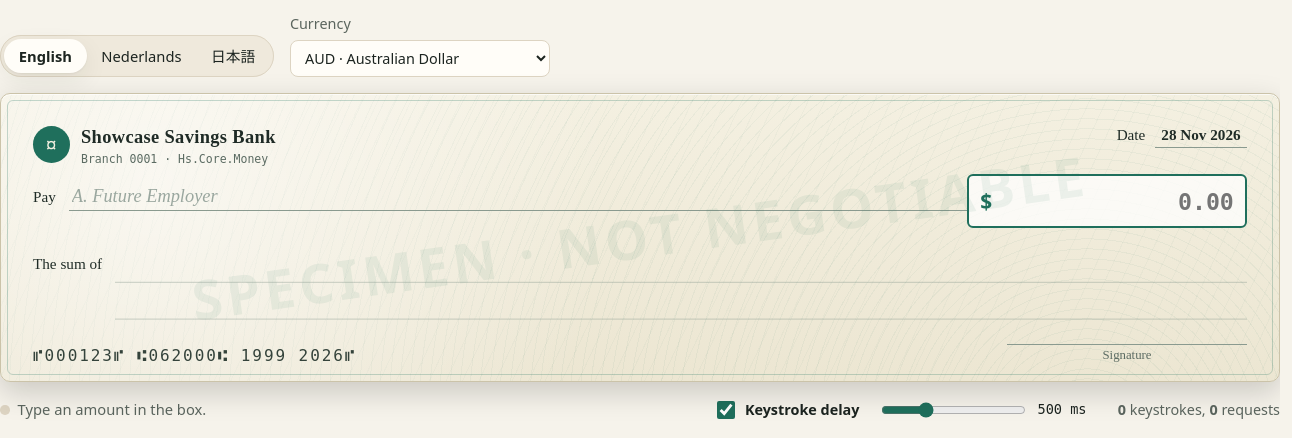
Cheque › waits for a pause in typing, then asks for the words once
Type "1234.5" into the field named "amount in figures" at (1116,201), box x1=998 y1=184 x2=1234 y2=218
Wait 500 ms
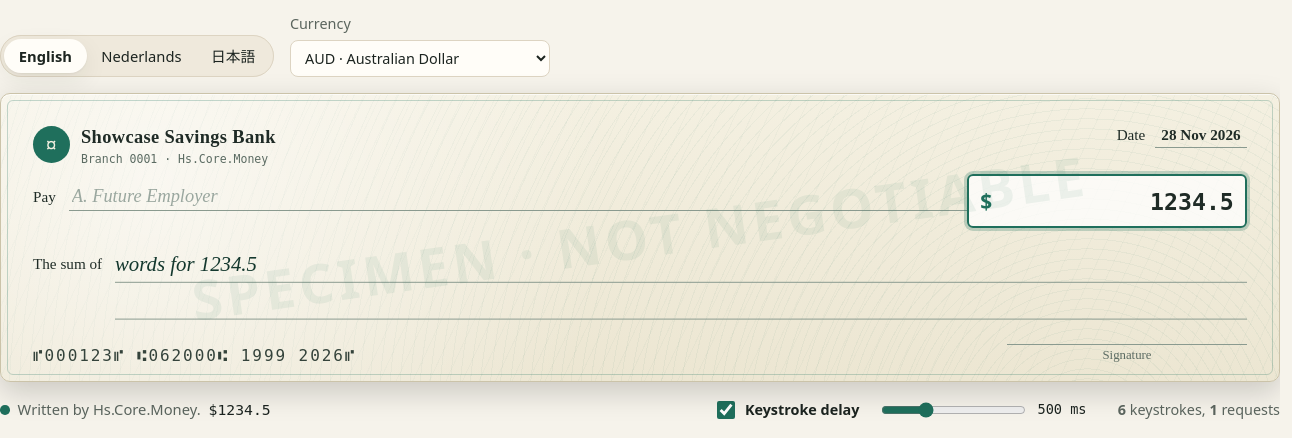
Result: the text "Written by Hs.Core.Money. $1234.5" is shown at x1=0 y1=398 x2=271 y2=422
Result: the text "words for 1234.5" is shown at x1=115 y1=246 x2=1247 y2=320
